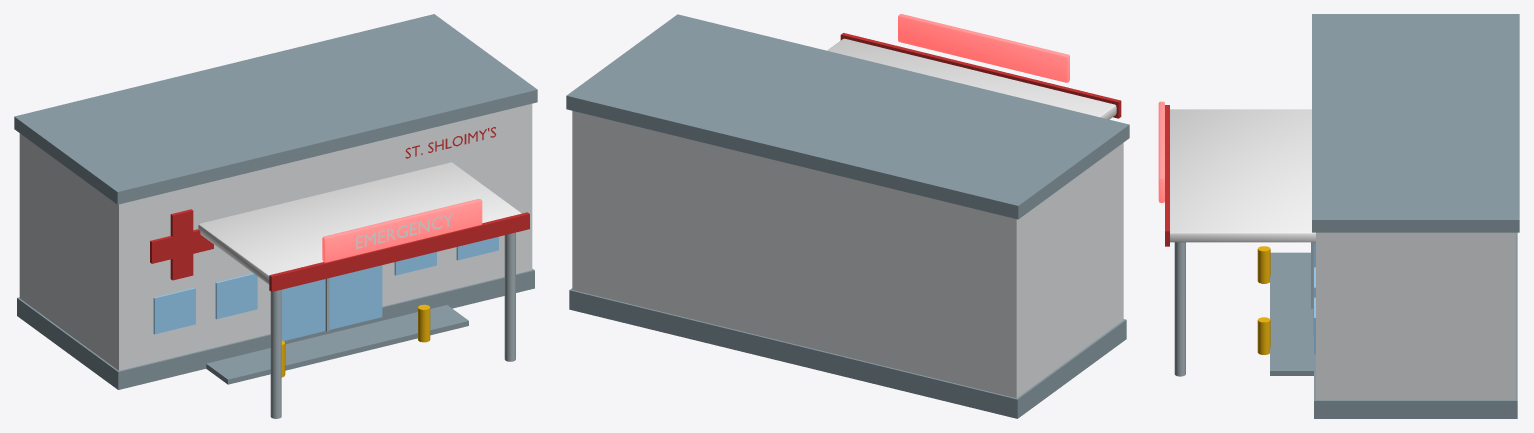
File: rides_er.glb
The picture shows the model from 3 angles, left to right: view 1: azimuth 30°, elevation 25°; view 2: azimuth 150°, elevation 25°; view 3: azimuth 270°, elevation 25°; orthographic projection. The views are drawn at different scales.
Parts seen in each view (by area): view 1: RidesER_body; view 2: RidesER_body; view 3: RidesER_body.
Boxes of the visible parts, box(x1,y1,x2,y2) form: RidesER_body: box(14, 14, 537, 418); RidesER_body: box(566, 14, 1129, 418); RidesER_body: box(1158, 14, 1519, 418).
Bounding box in the file's own units: 12.2 × 5.53 × 9.05.
